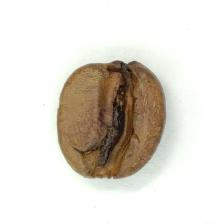NG: (65, 63, 144, 172)
